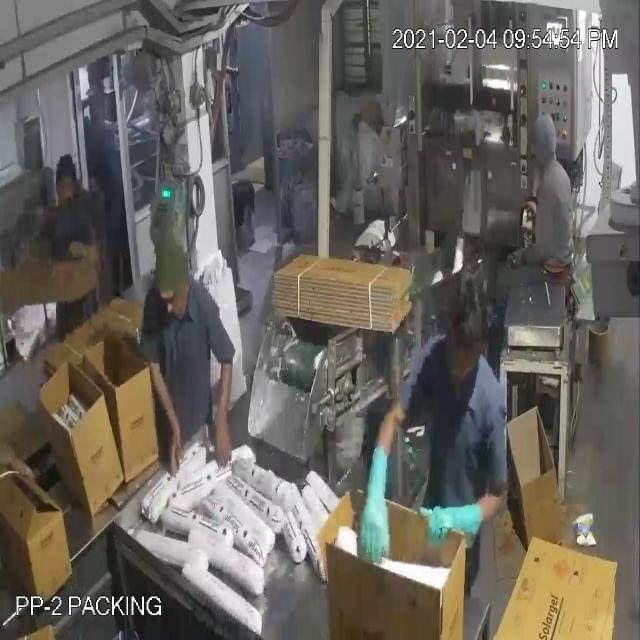No_Gloves: (28, 78, 453, 524)
